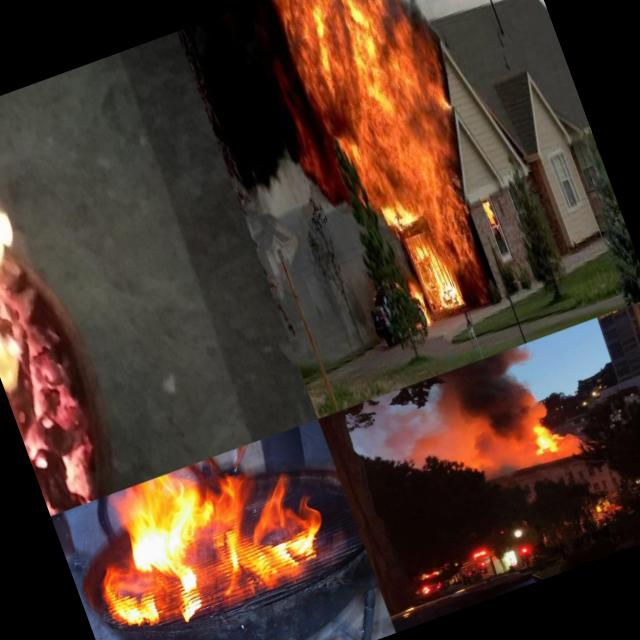fire: (271, 0, 521, 333), (0, 98, 135, 516), (78, 428, 341, 640), (530, 415, 580, 459), (592, 492, 622, 518)
smoke: (178, 0, 340, 222), (382, 344, 553, 472), (444, 428, 544, 494)
